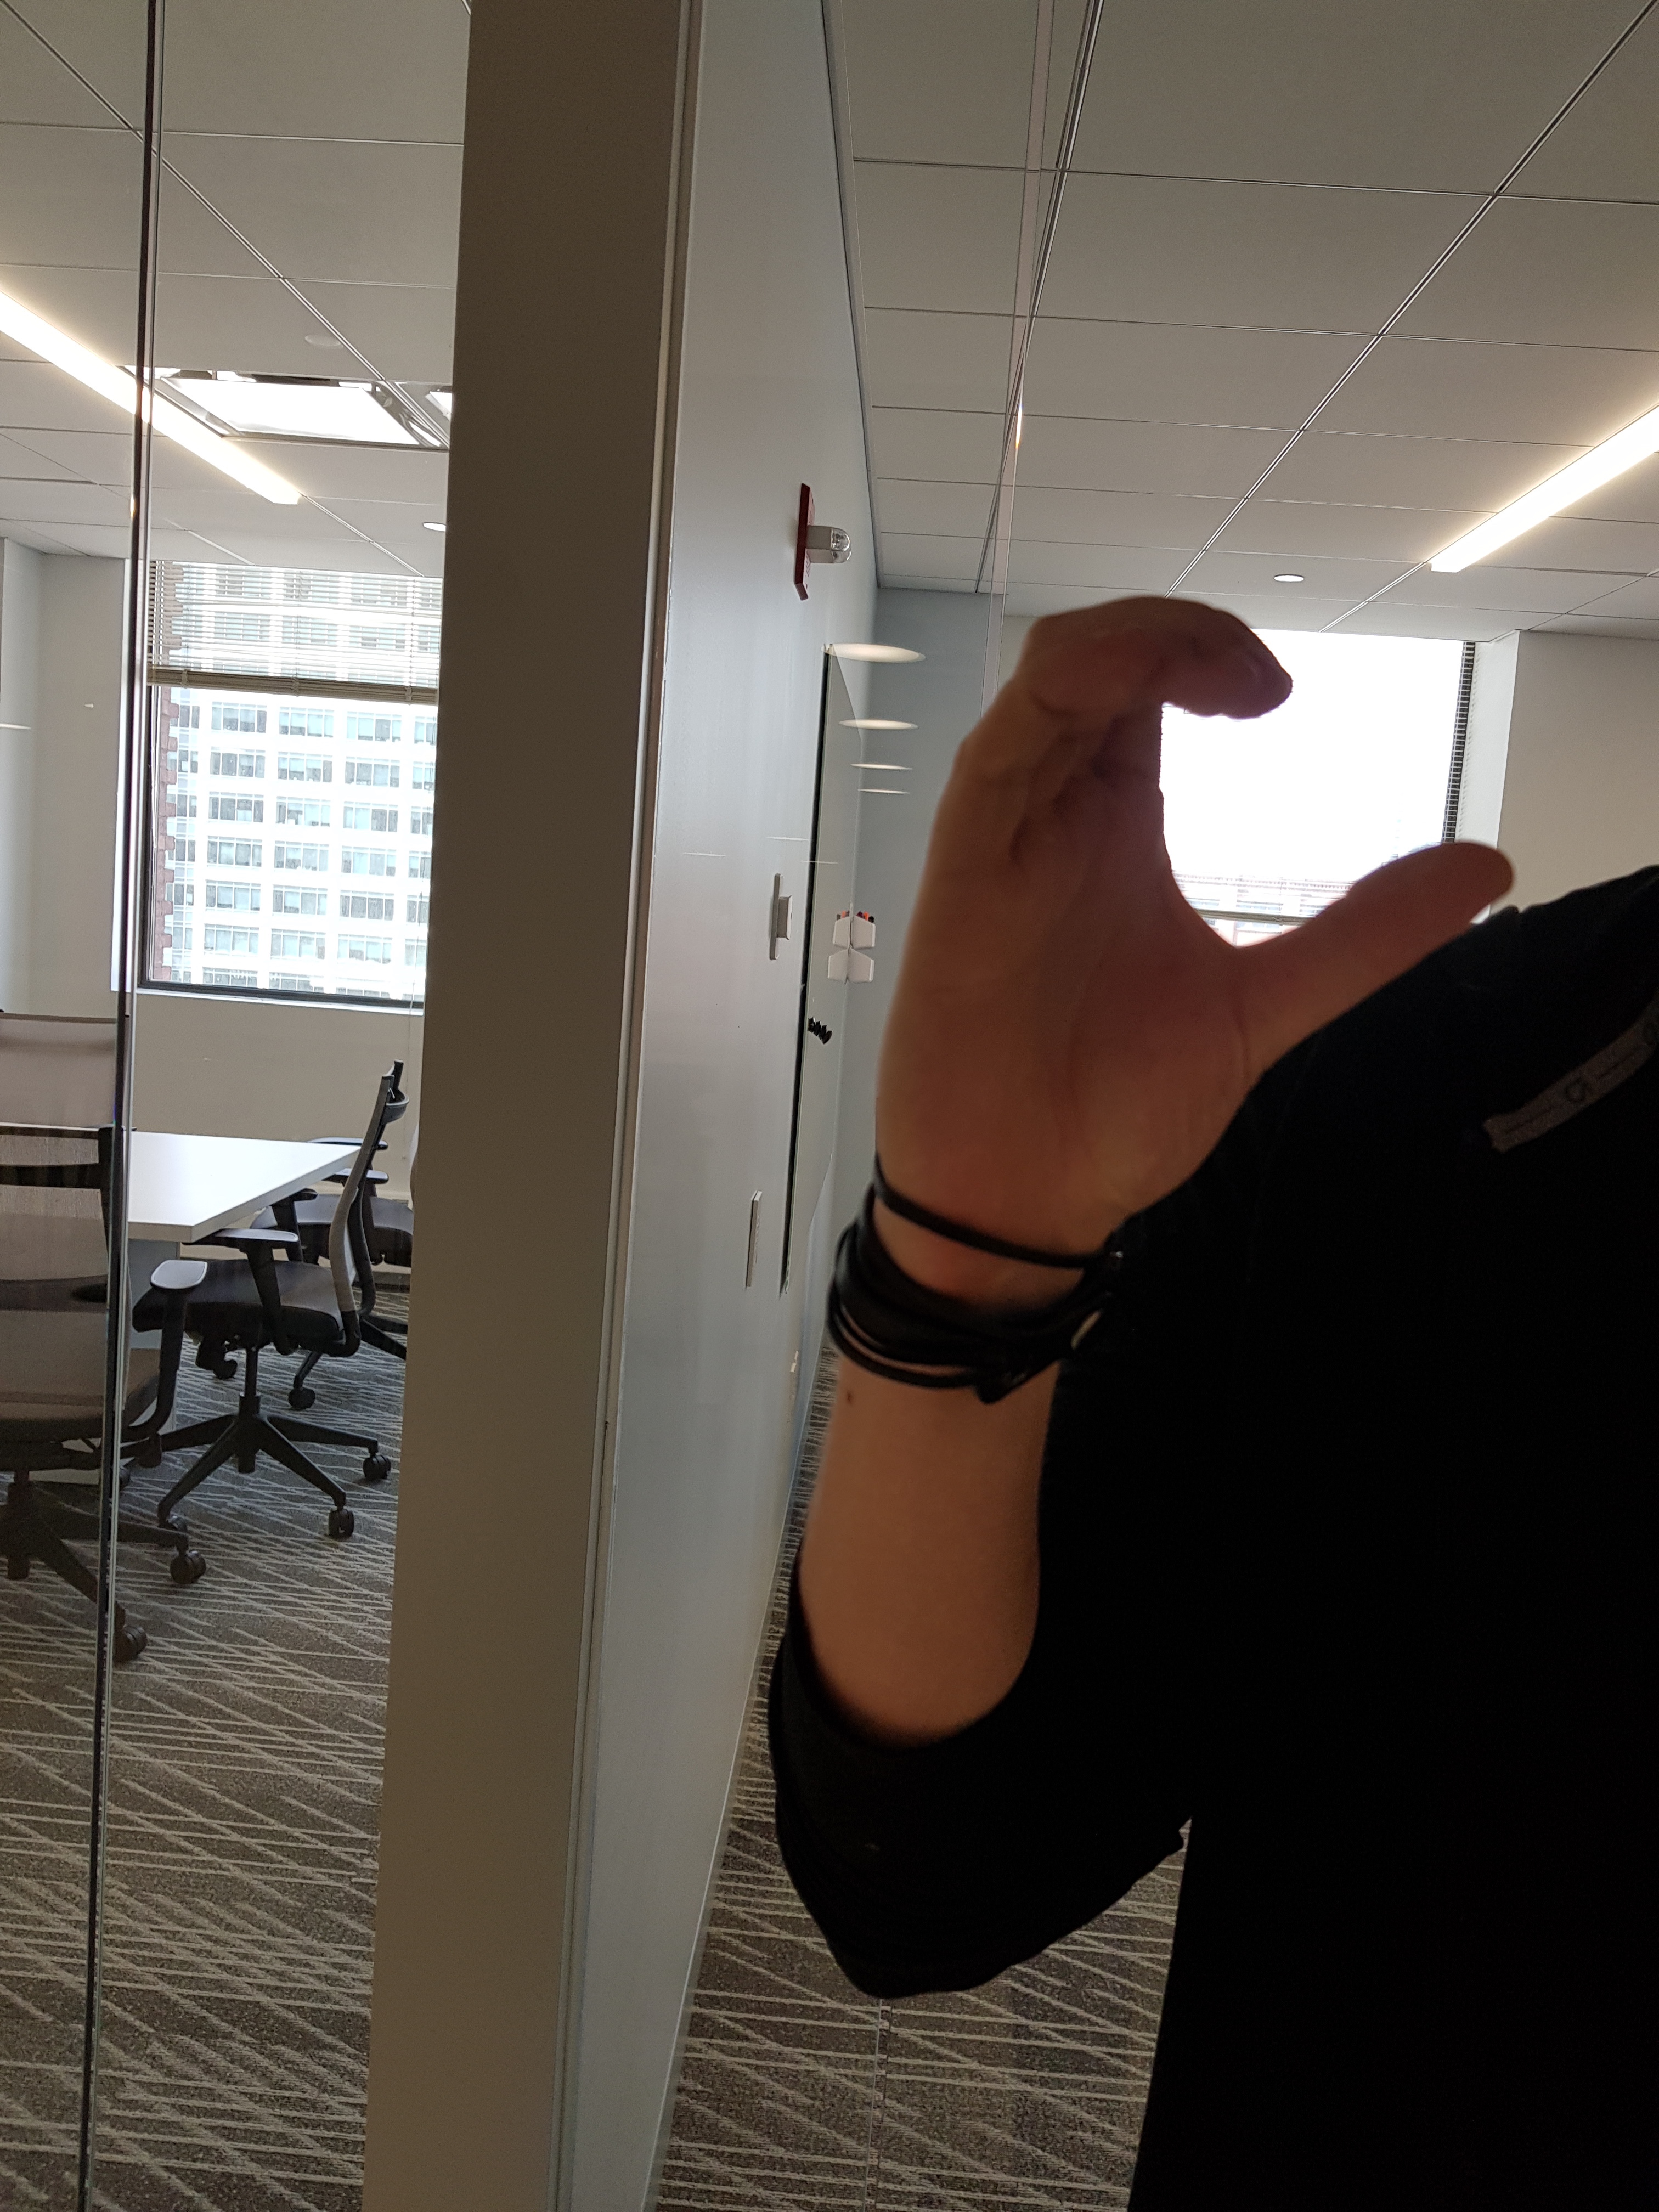c: (854, 566, 1534, 1217)
